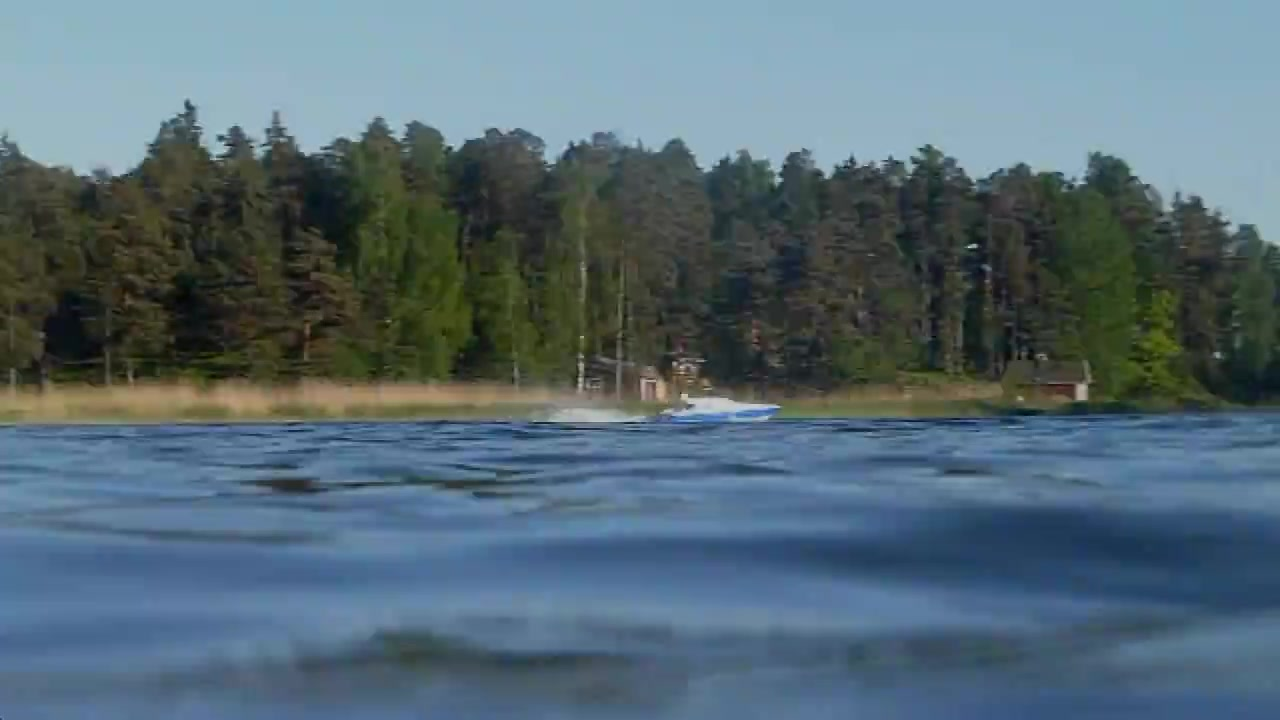boat: (657, 392, 785, 426)
